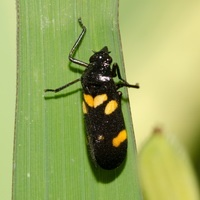insect: (45, 18, 138, 169)
